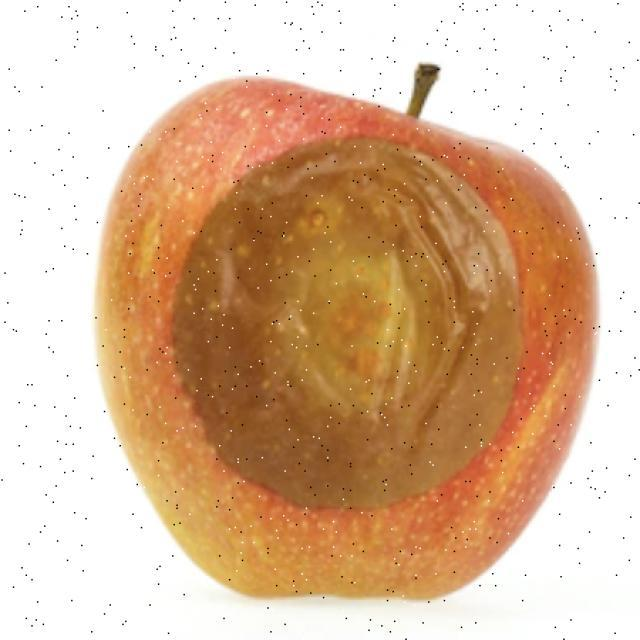Rotten: (93, 72, 602, 613)
